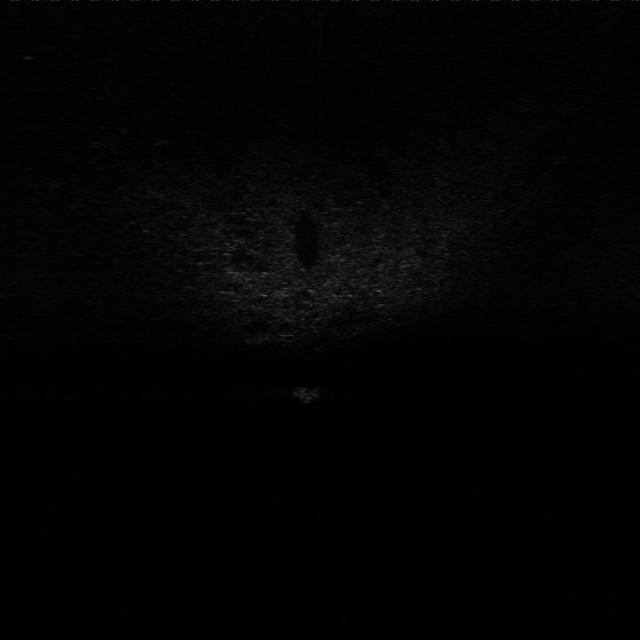cube: (289, 380, 327, 405)
